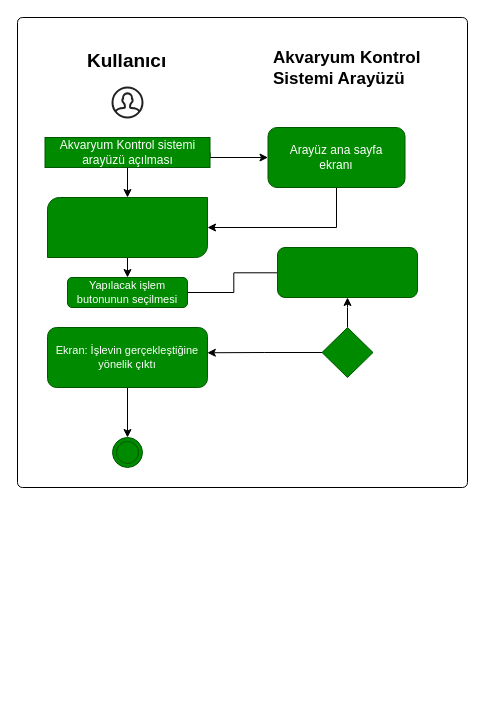
This 485x715 diagram has some shape labels left out. The box of each missing label's shape, as (x1, y1, x2, y2) in pixels:
Kullanıcının seçmiş olduğu işlevi gerçekleştirmek: (276, 246, 418, 298)
Manuel mod işlemleri için butonların kullanılması: (46, 196, 208, 258)
